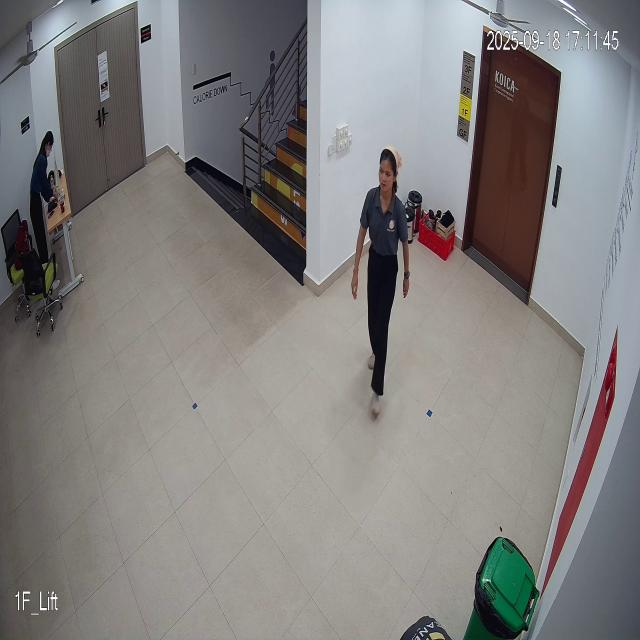face: (378, 138, 402, 194)
